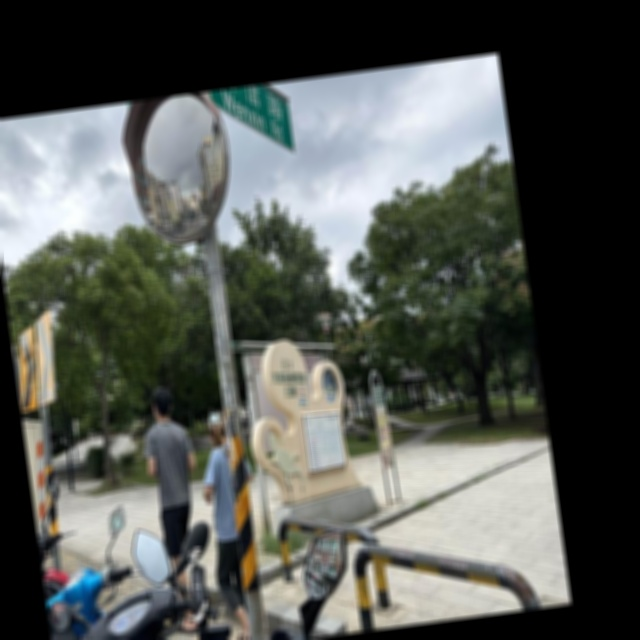Sin_Casco_Mascarrilla: (150, 387, 174, 421), (207, 413, 227, 444)
Sin_Chaleco: (150, 423, 194, 508), (209, 445, 241, 546)
